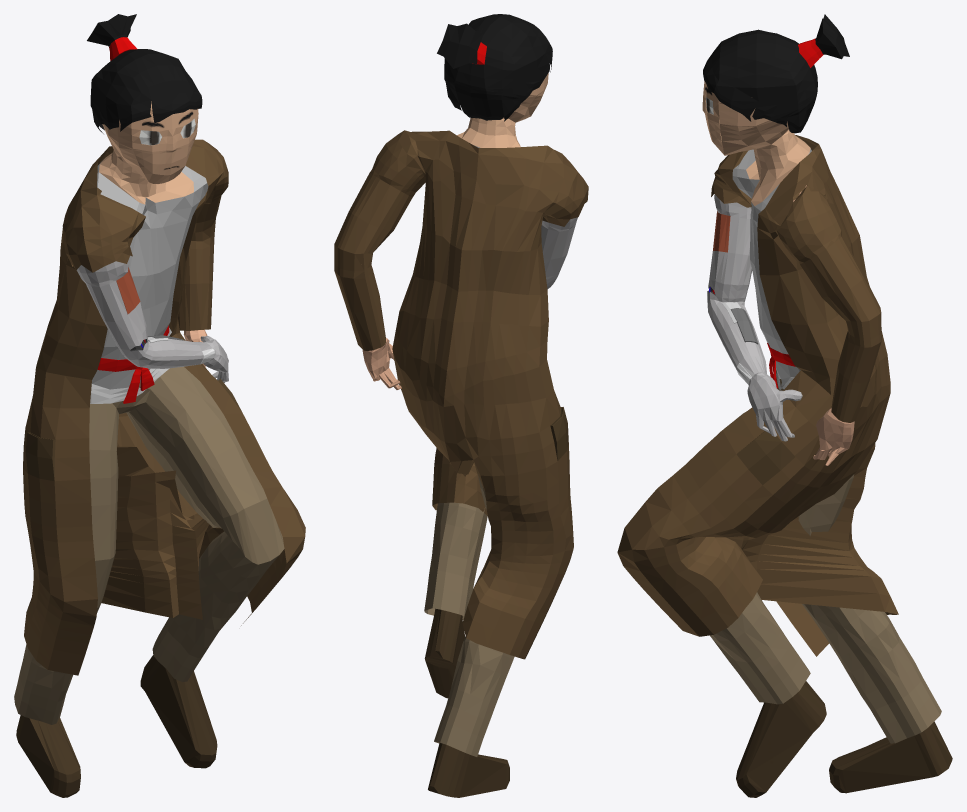
Rendered from One_RF_000008.obj.
3 views of the same model, side by side, from view 1: azimuth 30°, elevation 25°; view 2: azimuth 150°, elevation 25°; view 3: azimuth 270°, elevation 25° (orthographic). The views are drawn at different scales.
Parts seen in each view (by area): view 1: Hair_Cube.004; view 2: Hair_Cube.004; view 3: Hair_Cube.004.
Part boxes in pixels (x1=…): Hair_Cube.004: x1=14, y1=14, x2=305, y2=797; Hair_Cube.004: x1=334, y1=14, x2=588, y2=797; Hair_Cube.004: x1=617, y1=14, x2=952, y2=797.
Bounding box in the file's own units: 1.09 × 3.87 × 1.49.
